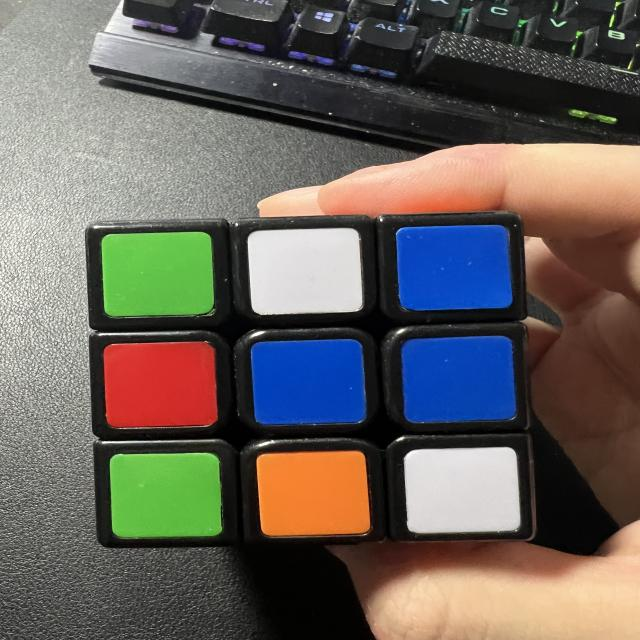blue: (396, 226, 512, 311), (402, 337, 514, 421)
center: (252, 342, 367, 428)
green: (102, 232, 218, 315), (111, 453, 222, 536)
orange: (257, 450, 369, 534)
red: (104, 343, 215, 427)
white: (404, 448, 521, 533), (249, 230, 363, 310)
